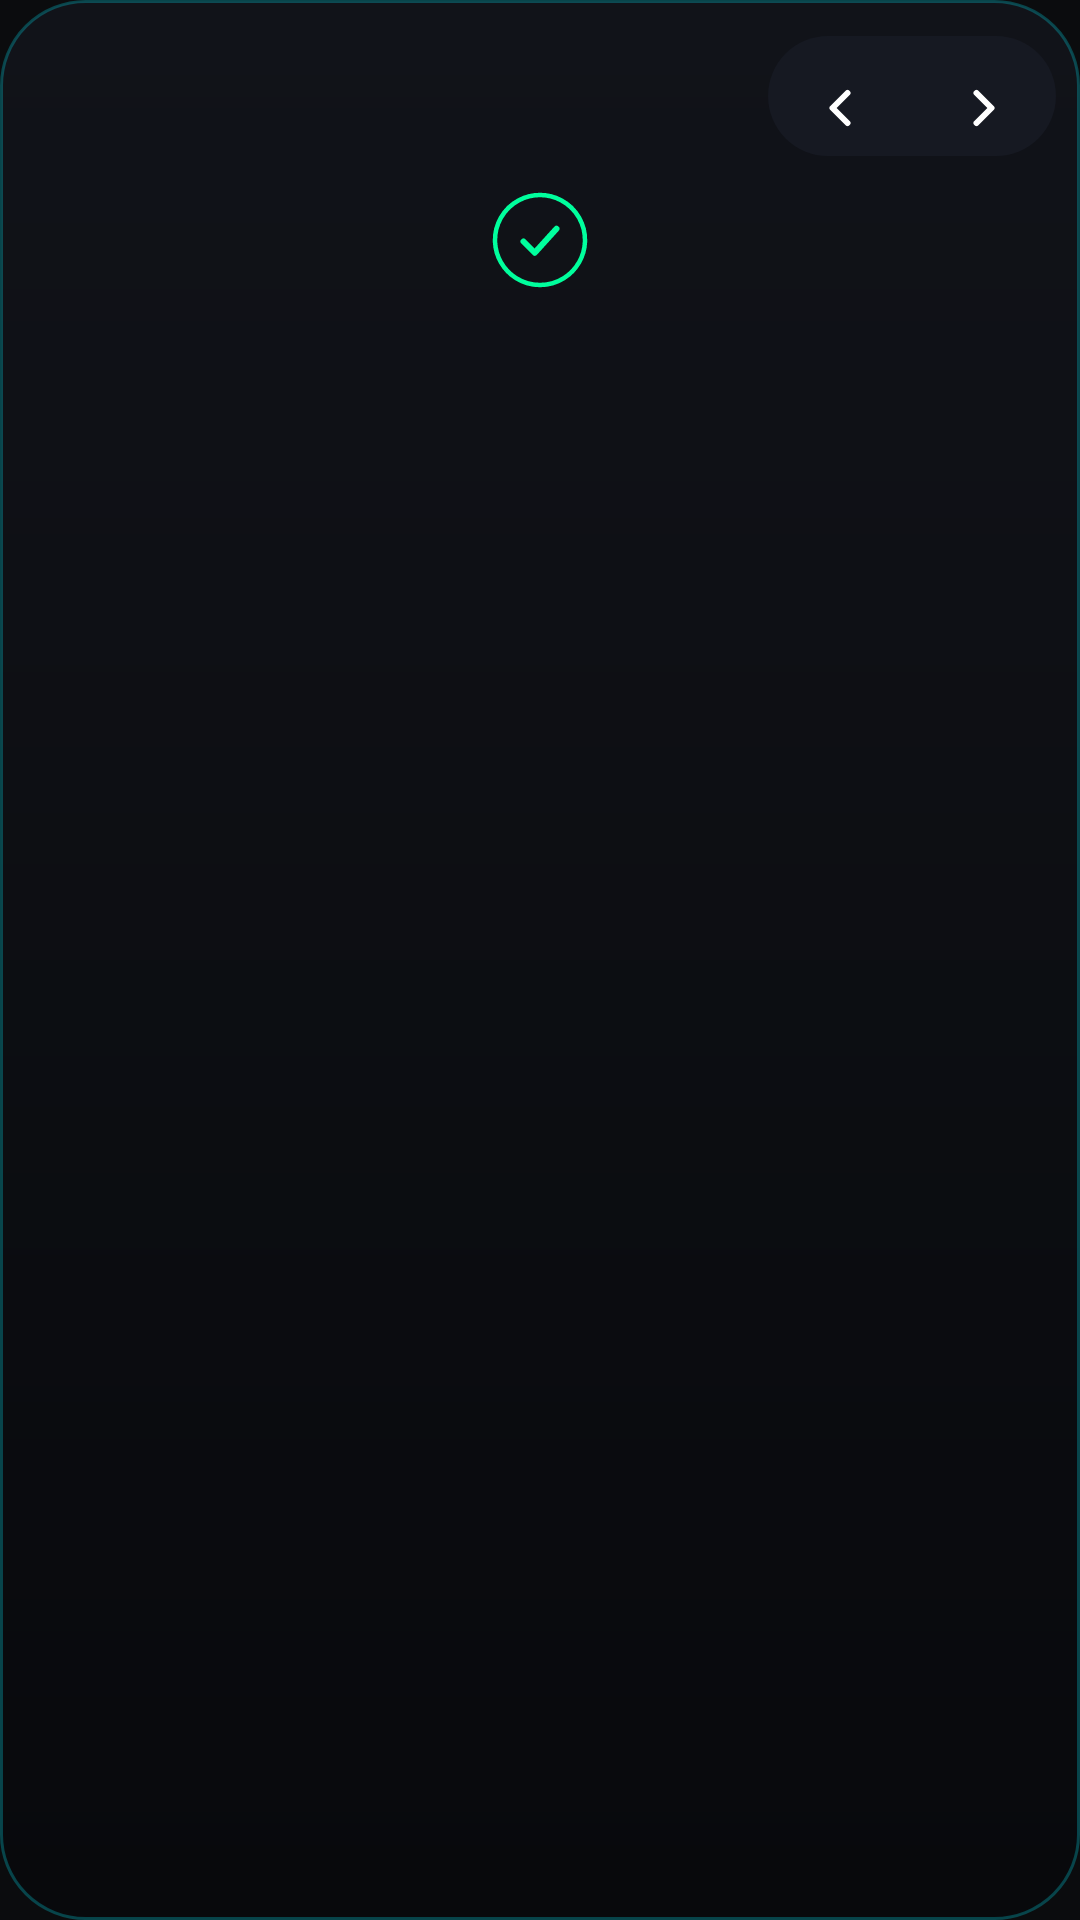

Named icons in this screenshot (1080w x 1920h) and their centers, [x,y]:
Next day: [984,96]
Previous day: [840,96]
